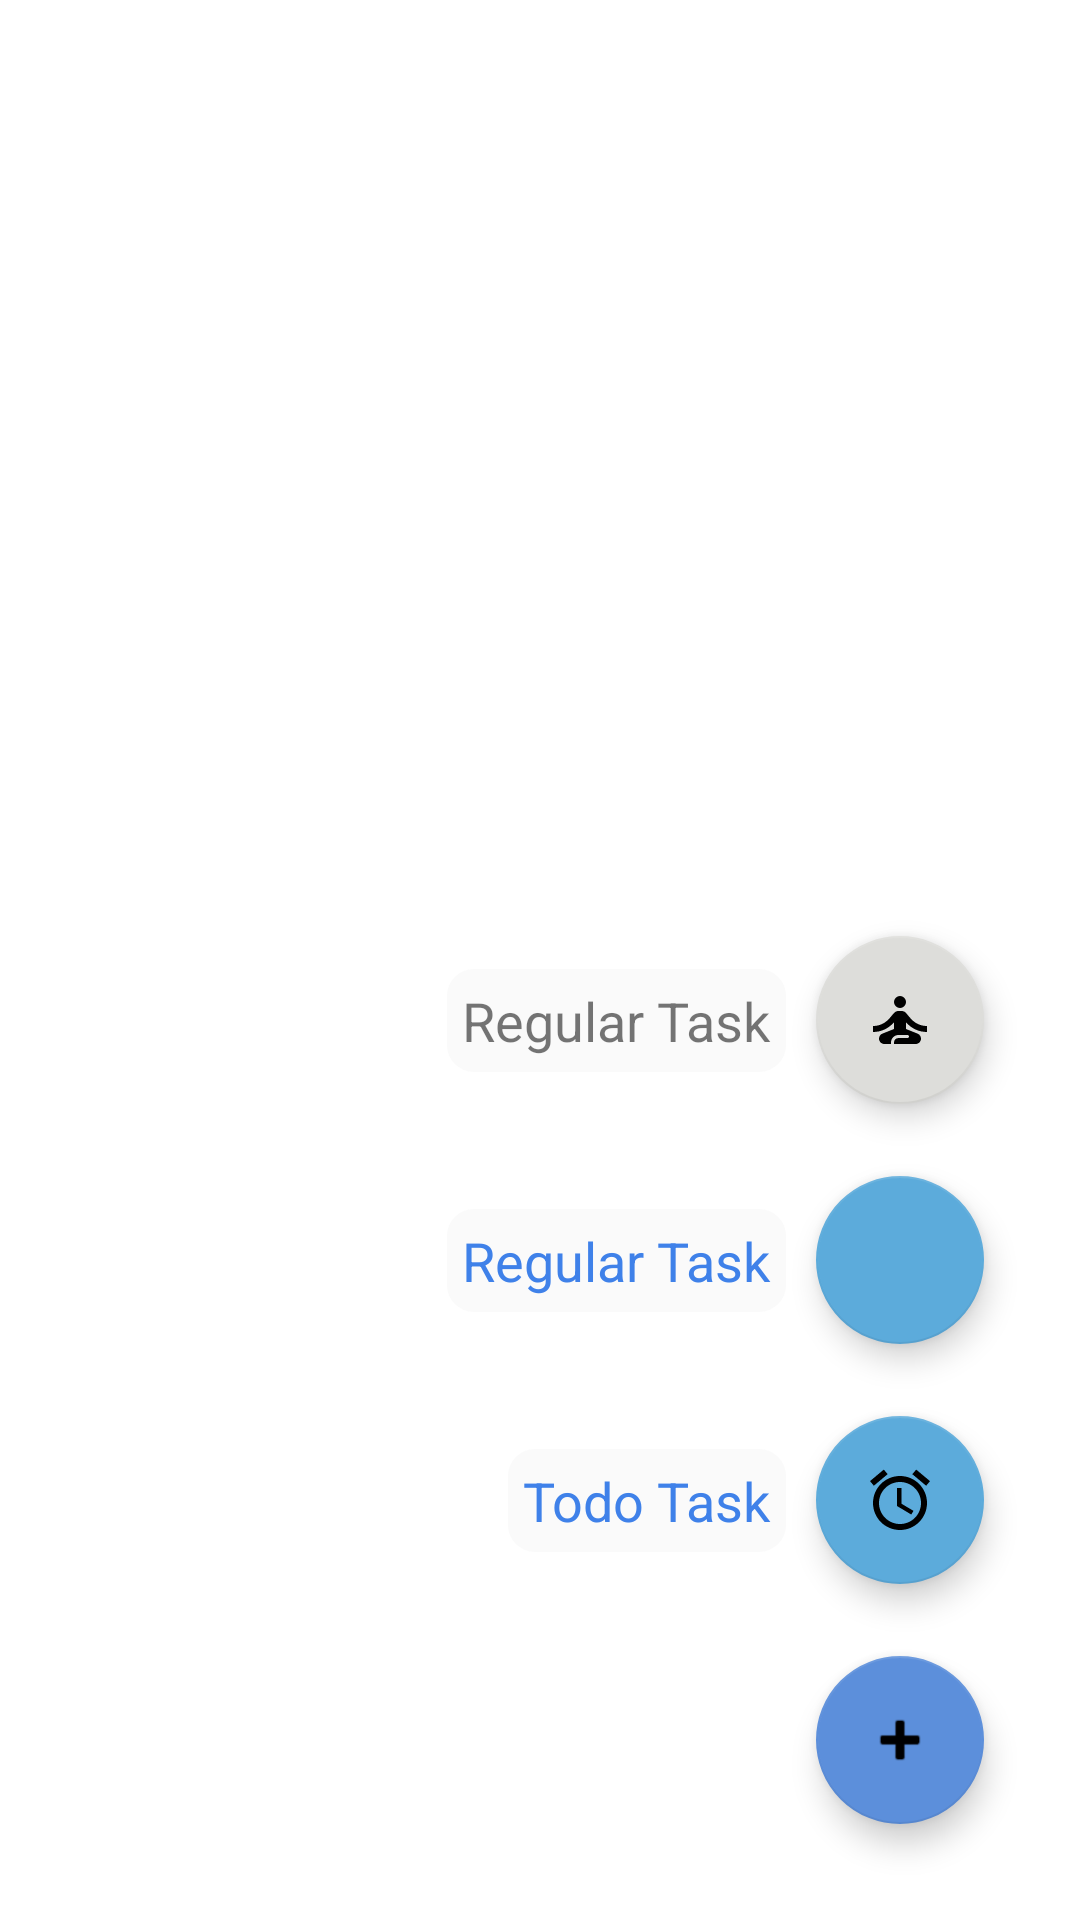

Point at icon controls on the screen. Image size 1080×1920, points as [x,y].
The Main Task Add Button: [900,1740]
